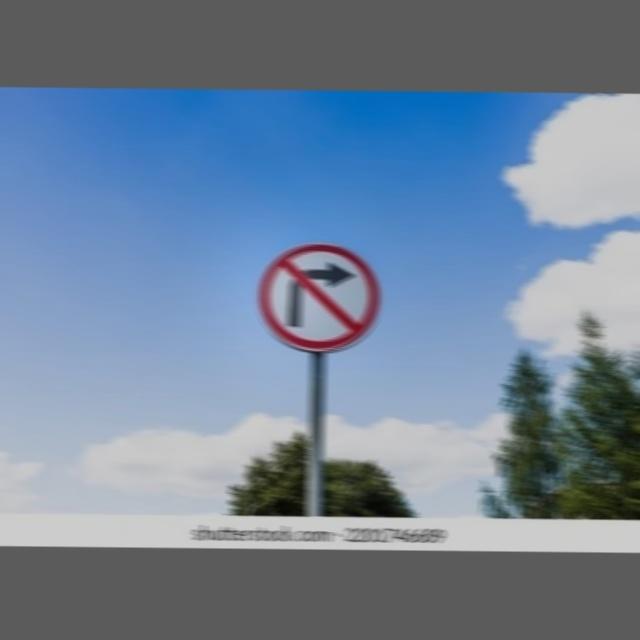Right_Turn_Prohibited: (258, 240, 379, 355)
